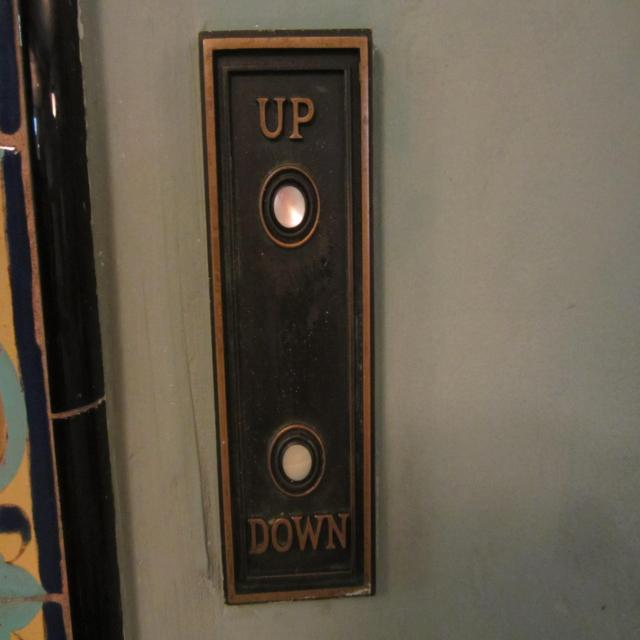empty: (258, 164, 322, 248), (265, 422, 327, 498)
